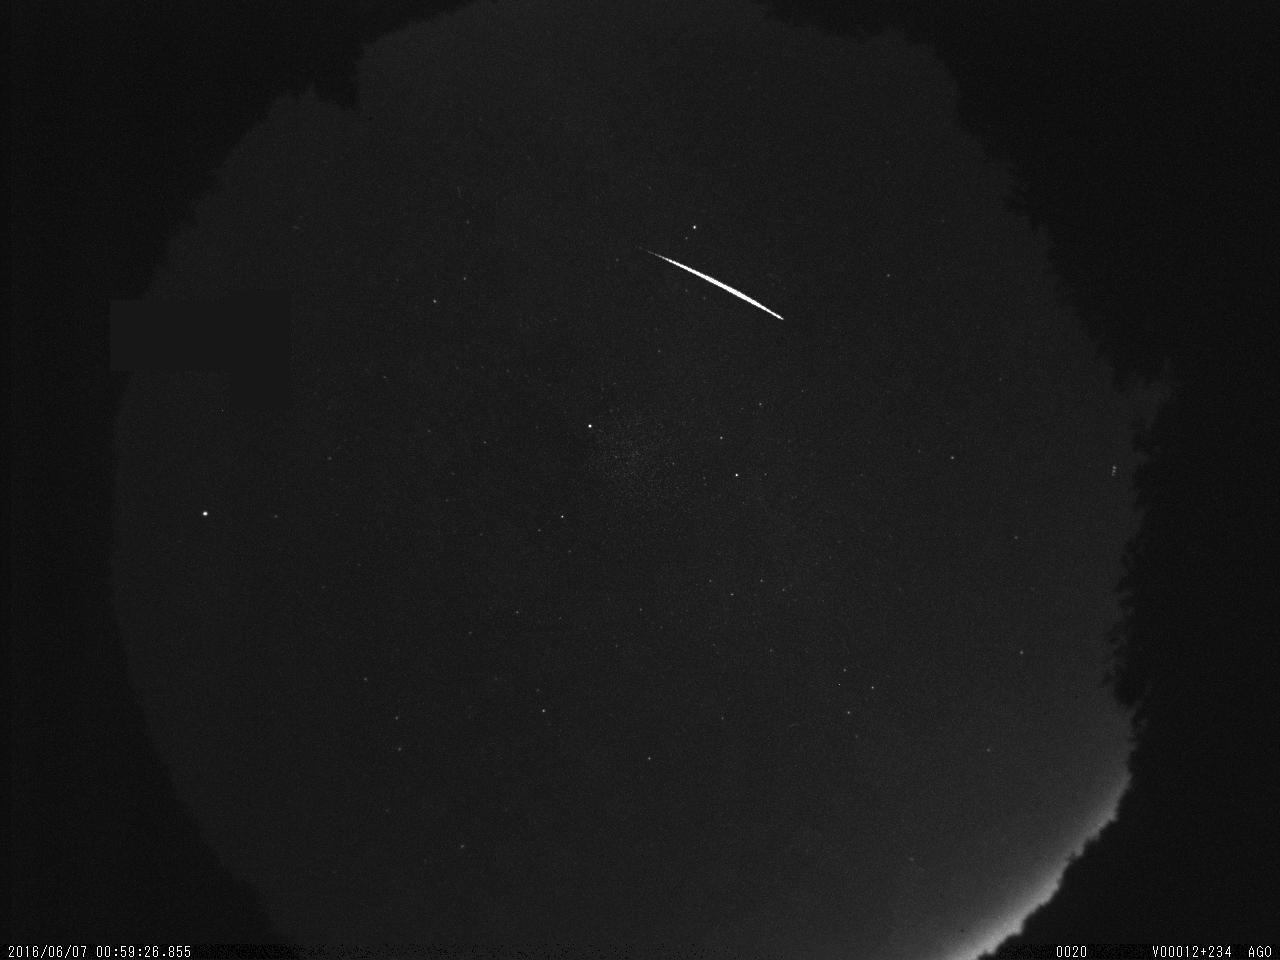meteor: (634, 219, 808, 336)
